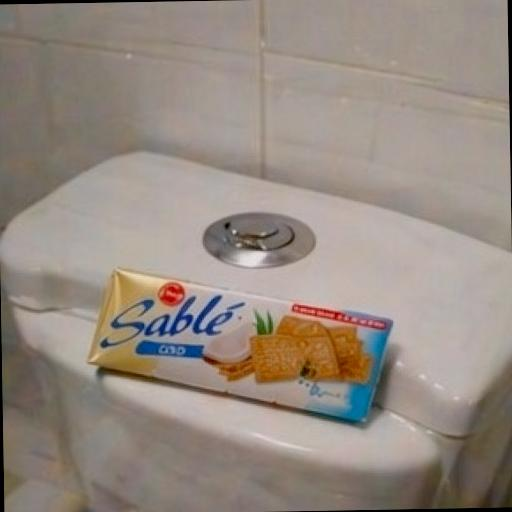sable: (72, 221, 447, 482)
